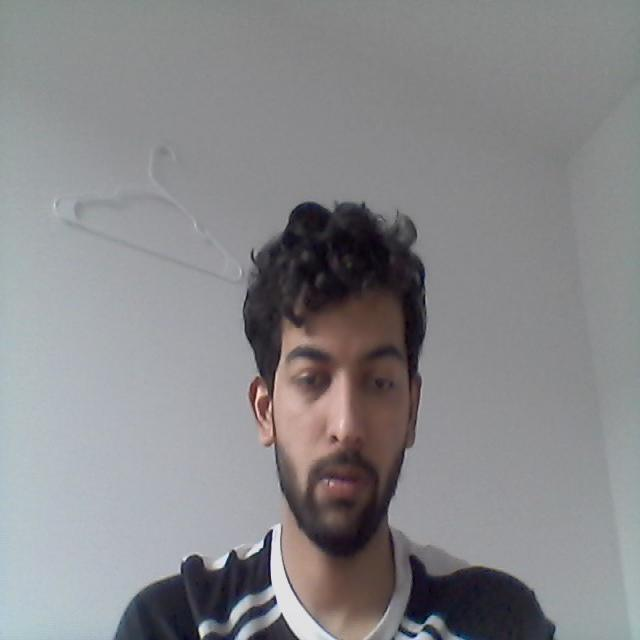nocap: (219, 187, 460, 413)
